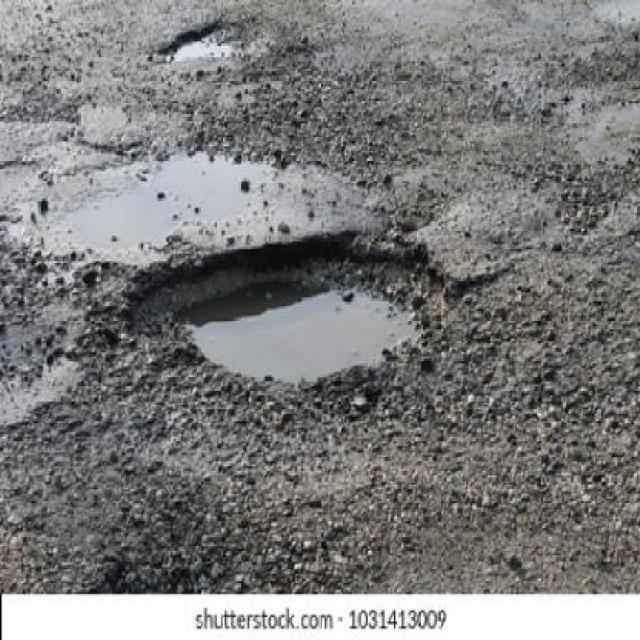pothole: (95, 194, 491, 432)
